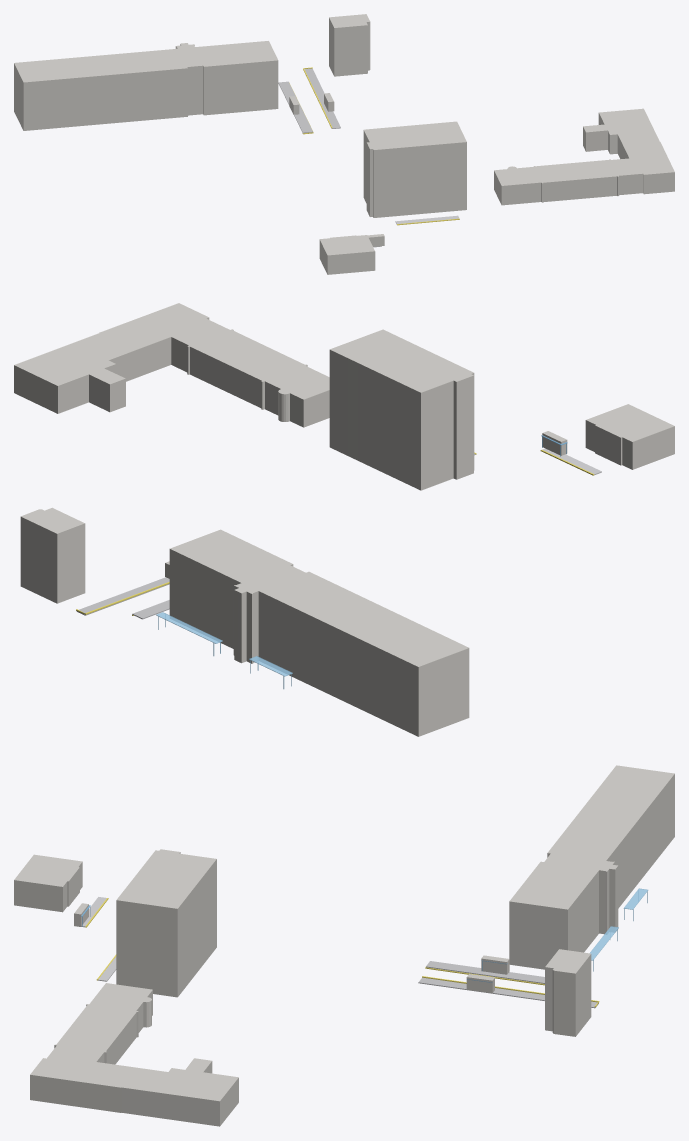
Rendered from 8590021-bern-viktoriaplatz.glb.
The picture shows the model from 3 angles, top to bottom: view 1: azimuth 30°, elevation 25°; view 2: azimuth 150°, elevation 25°; view 3: azimuth 270°, elevation 25°; orthographic projection. The views are drawn at different scales.
Parts seen in each view (by area): view 1: building_part@x, platform_surface@0; view 2: building_part@x, platform_surface@0, canopy@0; view 3: building_part@x, platform_surface@0, boarding_edge@0, canopy@0.
Boxes of the visible parts, <box> form: building_part@x: <box>14,14,674,274</box>; platform_surface@0: <box>278,68,340,133</box>; building_part@x: <box>14,303,674,736</box>; platform_surface@0: <box>76,577,169,619</box>; canopy@0: <box>156,612,292,689</box>; building_part@x: <box>14,765,674,1126</box>; platform_surface@0: <box>418,961,598,1008</box>; boarding_edge@0: <box>85,898,599,1007</box>; canopy@0: <box>590,888,648,971</box>.
Bounding box in the file's own units: 177 × 25.05 × 166.
